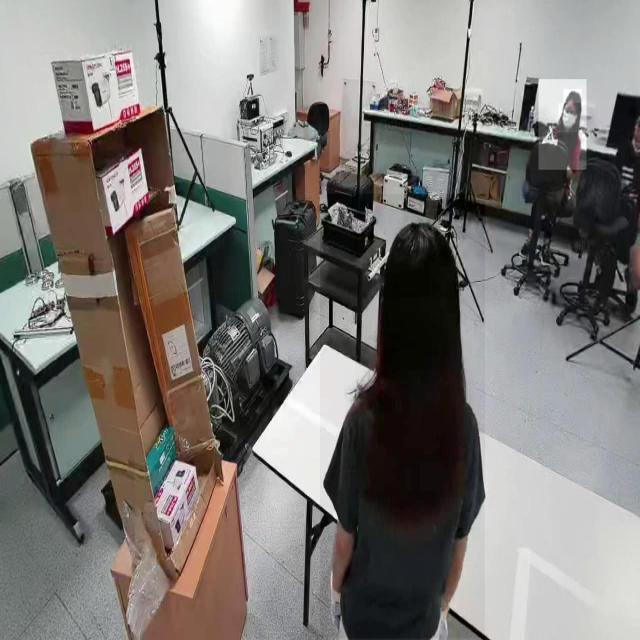face_mask: (558, 103, 580, 133)
head_nohelmet: (382, 218, 458, 298), (564, 89, 582, 104)
person: (320, 194, 486, 639), (539, 79, 587, 171)
